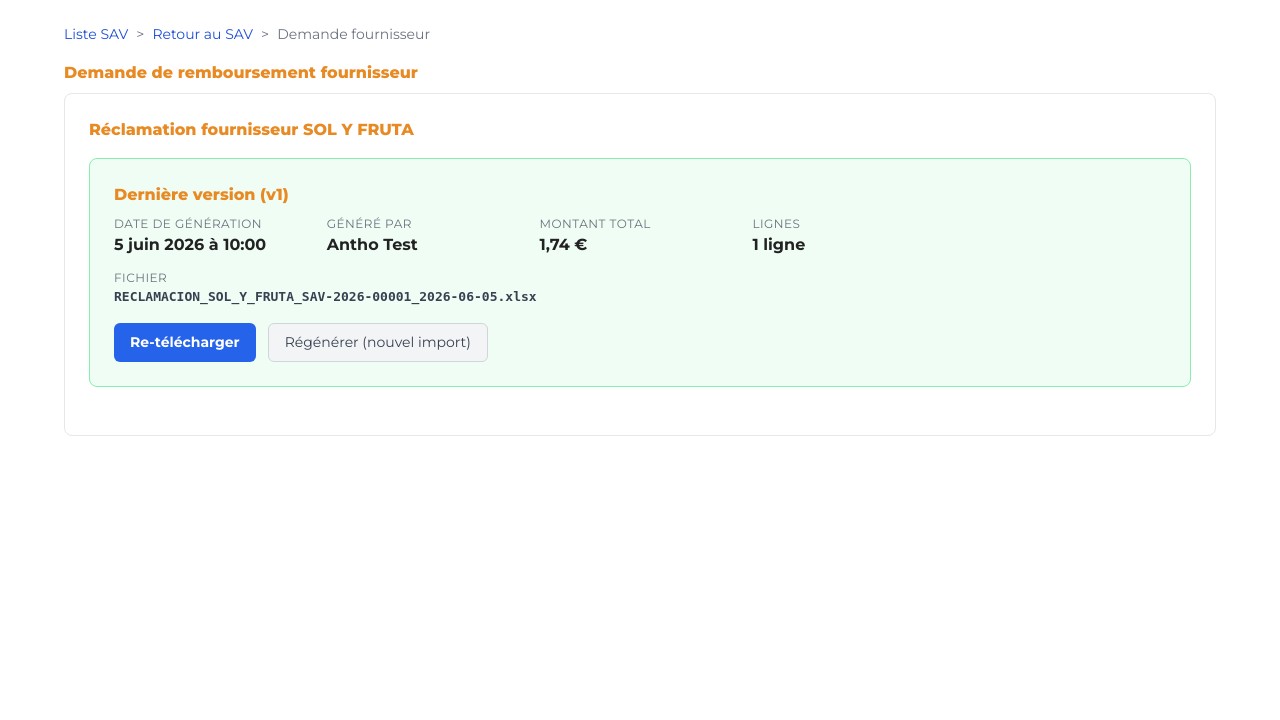
it: HIST-UI-04: click "Régénérer" → modale de confirmation visible (AC #6l, DN-4 LOCKED) › HIST-UI-04b: modale contient le titre "Confirmer la régénération ?" (DN-4=A)
Click the button with test id "regenerate-btn" at (378, 342), box left=268, top=322, right=488, bottom=362
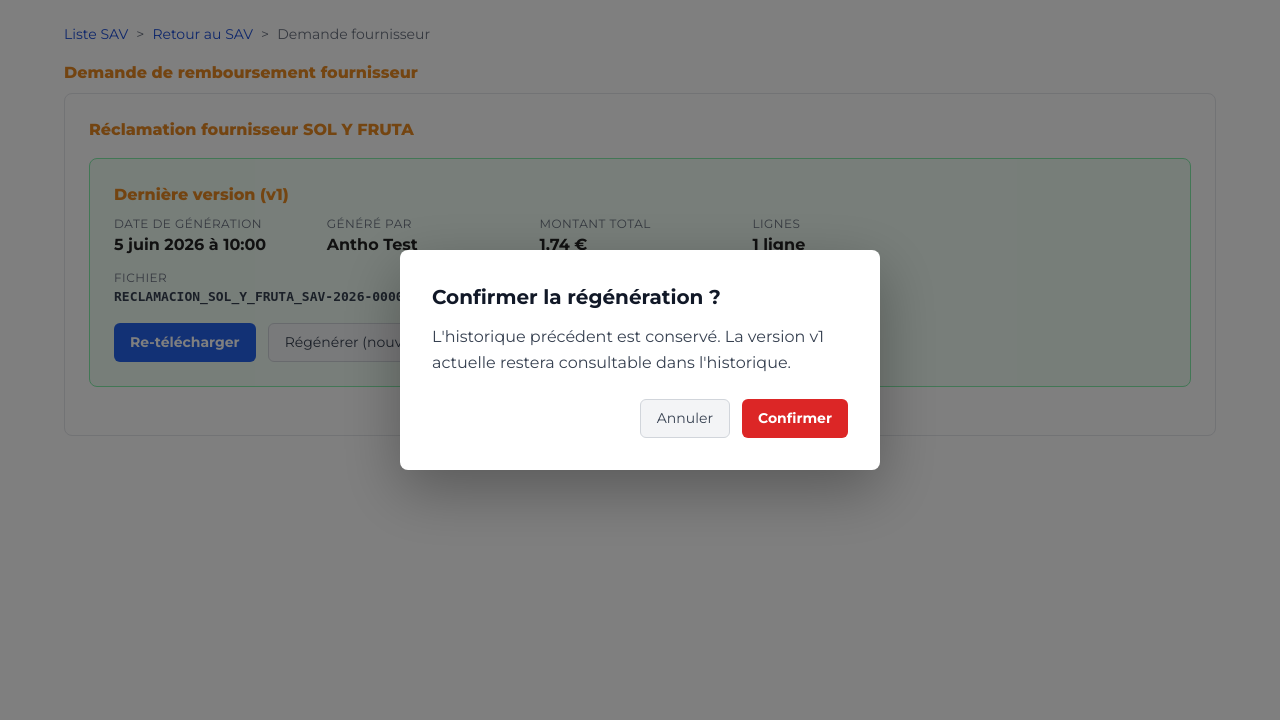
Expected: the text "Confirmer la régénération ?" is shown, left=432, top=285, right=721, bottom=309
